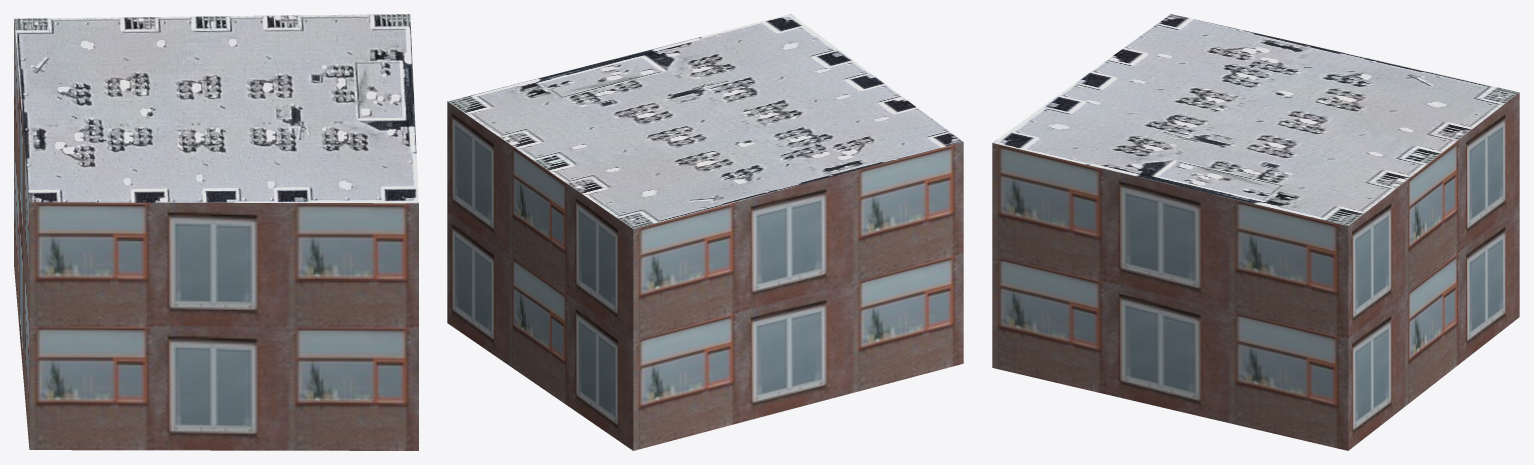
Rendered from ResTex__3017.fbx.
3 renders of one model, left to right at view 1: azimuth 30°, elevation 25°; view 2: azimuth 150°, elevation 25°; view 3: azimuth 270°, elevation 25°, orthographic. The views are drawn at different scales.
Visible parts, largest first — view 1: CityEngineMaterial_19_m, CityEngineMaterial_15_m; view 2: CityEngineMaterial_19_m, CityEngineMaterial_15_m; view 3: CityEngineMaterial_19_m, CityEngineMaterial_15_m.
Part boxes in pixels (box(x1,y1,x2,y2)): CityEngineMaterial_19_m: box(14, 19, 418, 450); CityEngineMaterial_15_m: box(14, 14, 418, 203); CityEngineMaterial_19_m: box(447, 101, 963, 450); CityEngineMaterial_15_m: box(448, 14, 962, 228); CityEngineMaterial_19_m: box(992, 92, 1519, 450); CityEngineMaterial_15_m: box(993, 14, 1518, 225).
Size of the model in its own units: 12.13 by 6 by 12.75.
Materials: 2 (2 with a texture image).
